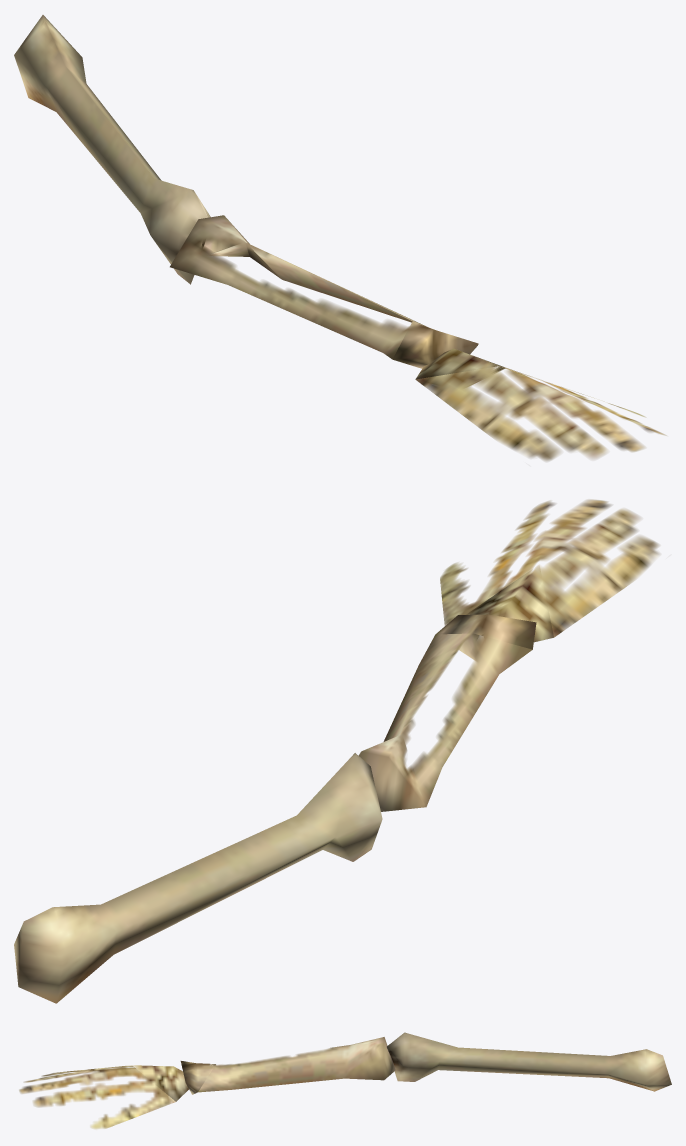
3 renders of one model, top to bottom at view 1: azimuth 30°, elevation 25°; view 2: azimuth 150°, elevation 25°; view 3: azimuth 270°, elevation 25°, orthographic. The views are drawn at different scales.
Parts seen in each view (by area): view 1: d_sk_part6-col; view 2: d_sk_part6-col; view 3: d_sk_part6-col.
Part boxes in pixels (x1,y1,x2,y2): d_sk_part6-col: (14, 15, 666, 461); d_sk_part6-col: (14, 499, 659, 1003); d_sk_part6-col: (19, 1032, 671, 1129).
Size of the model in its own units: 0.1778 by 0.0657 by 0.7528.
Materials: 2 (2 with a texture image).
